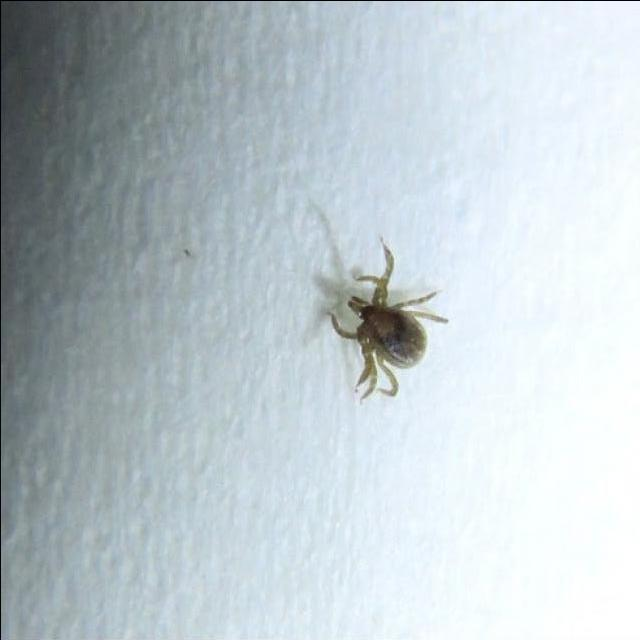Ixodes Ricinus-M: (325, 236, 445, 402)
